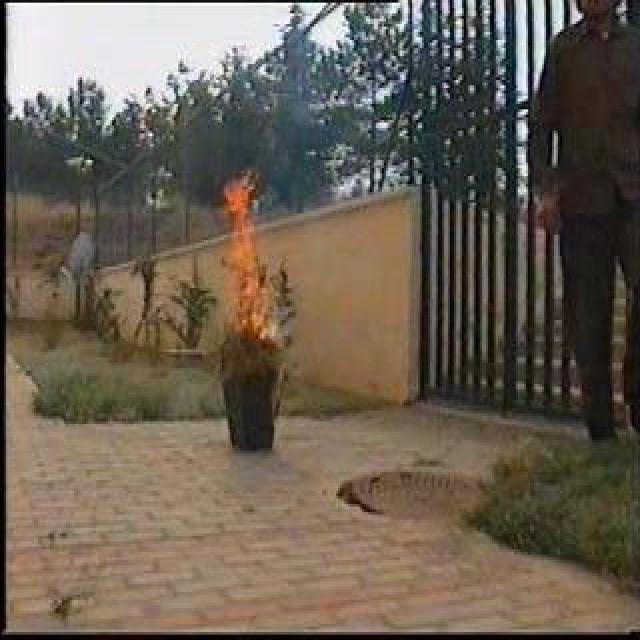fire: (221, 176, 283, 344)
